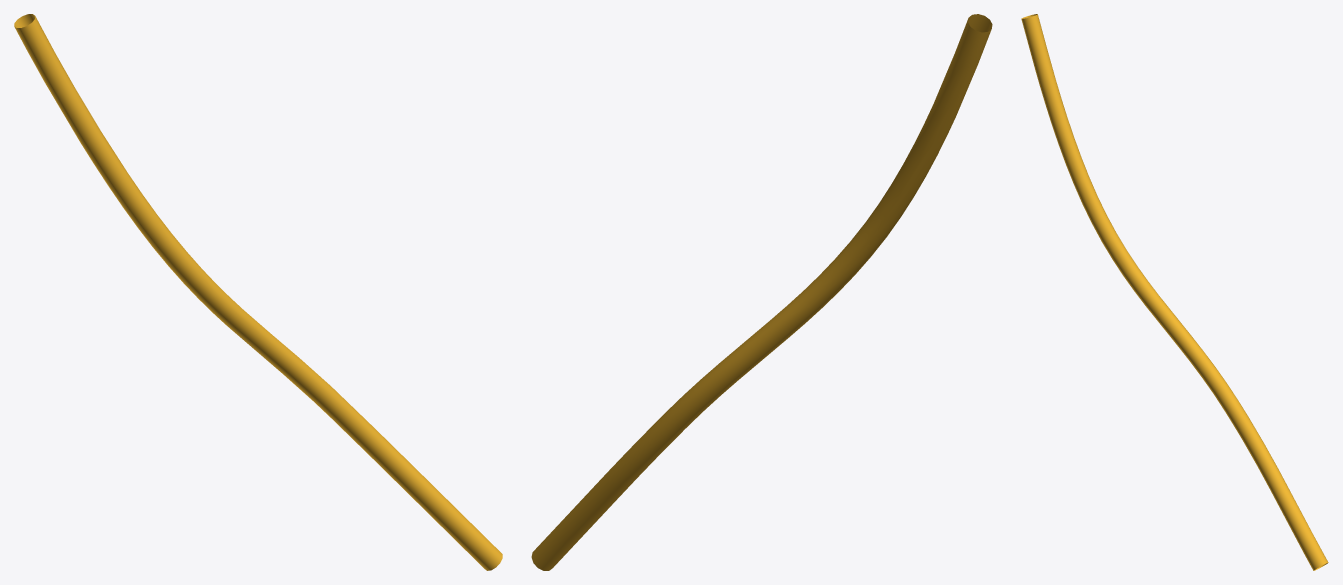
File: nervoso-muscular-branches-of-deep-fibular-nerve-l.glb
3 views of the same model, side by side, from view 1: azimuth 30°, elevation 25°; view 2: azimuth 150°, elevation 25°; view 3: azimuth 330°, elevation 25° (orthographic). The views are drawn at different scales.
Visible parts, largest first — view 1: Muscular branches of deep fibular nerve.l; view 2: Muscular branches of deep fibular nerve.l; view 3: Muscular branches of deep fibular nerve.l.
Boxes of the visible parts, x1,y1,x2,y2 form: Muscular branches of deep fibular nerve.l: [14, 14, 502, 570]; Muscular branches of deep fibular nerve.l: [531, 14, 992, 570]; Muscular branches of deep fibular nerve.l: [1021, 14, 1328, 570].
Bounding box in the file's own units: 0.0221 × 0.0296 × 0.00396.
